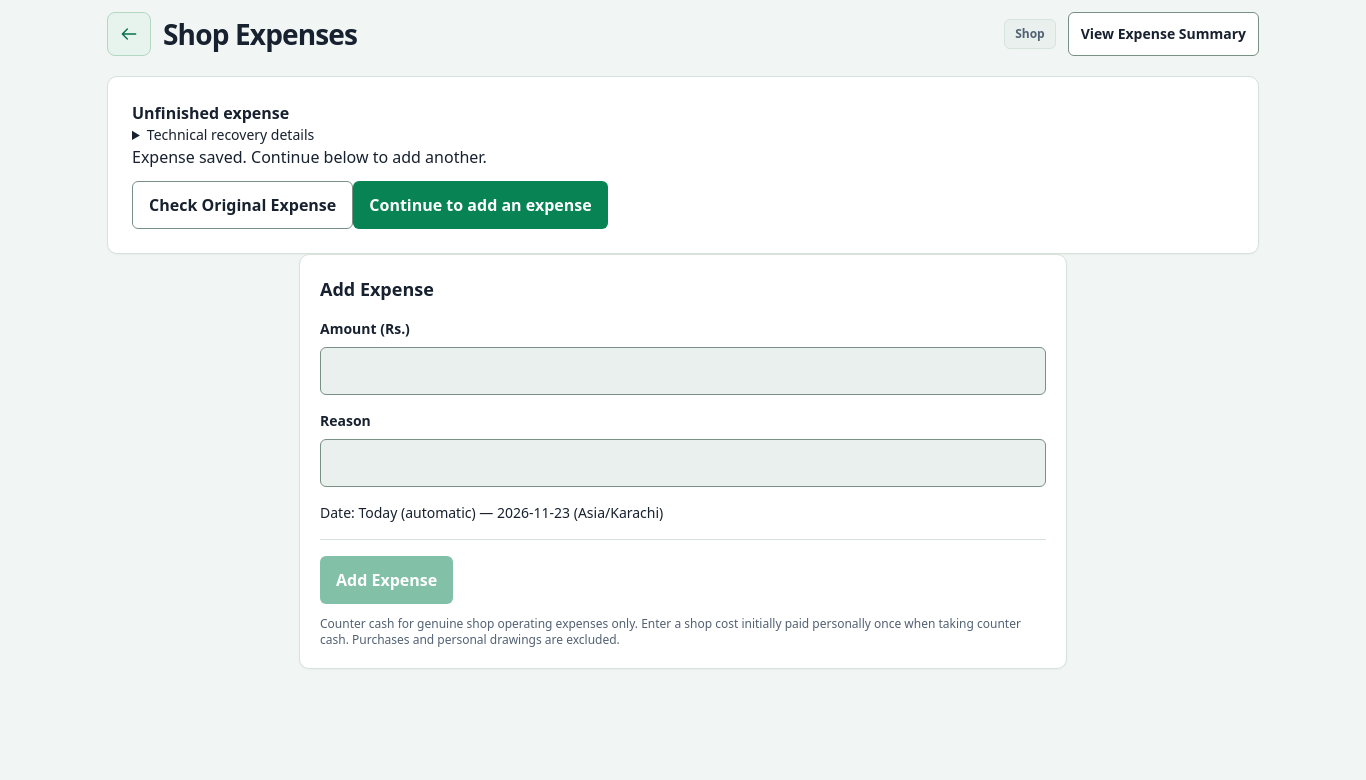
Test case: automatically looks up a retained expense and enables the form only after confirmed acknowledgement
Expected: the text "Expense saved. Continue below to add another." is shown, [132,146,487,168]
Expected: the field labelled "Amount (Rs.)" is disabled, [320,347,1046,395]
Click the button "Continue to add an expense".
click(480, 205)  # box [353,181,608,229]
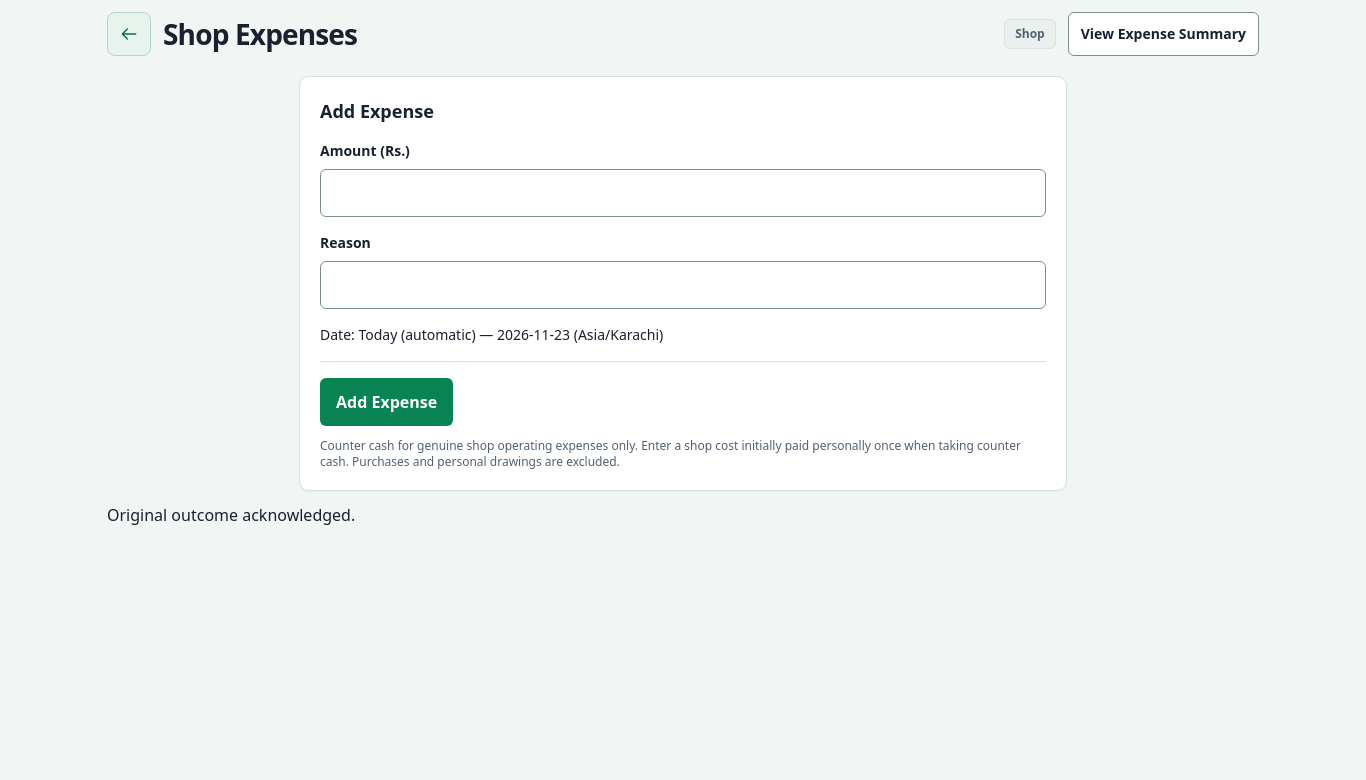
Expected: the field labelled "Amount (Rs.)" is enabled, [320,169,1046,217]
